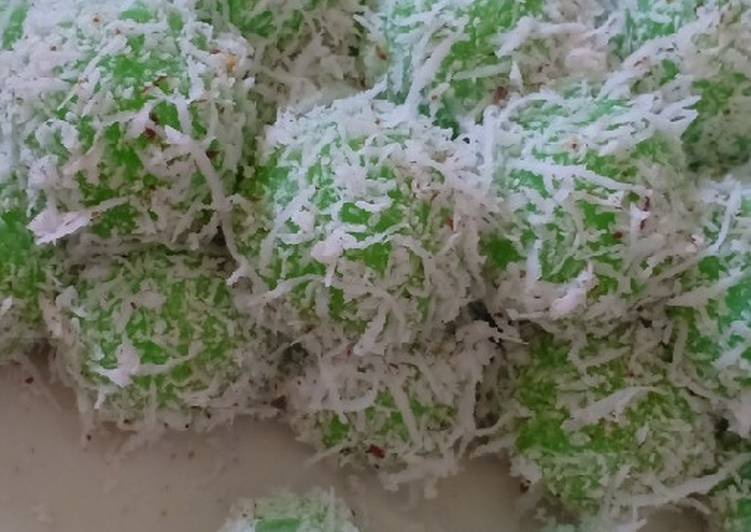klepon: (246, 65, 509, 359), (451, 91, 711, 341)
